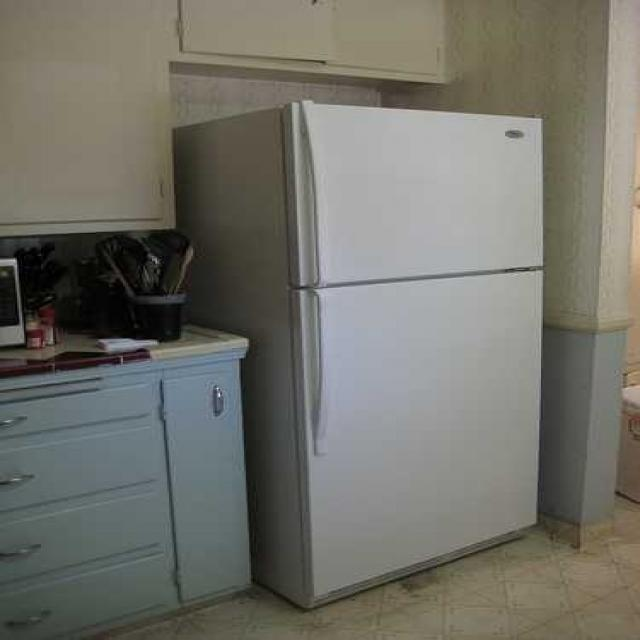refrigerator: (259, 90, 542, 606)
